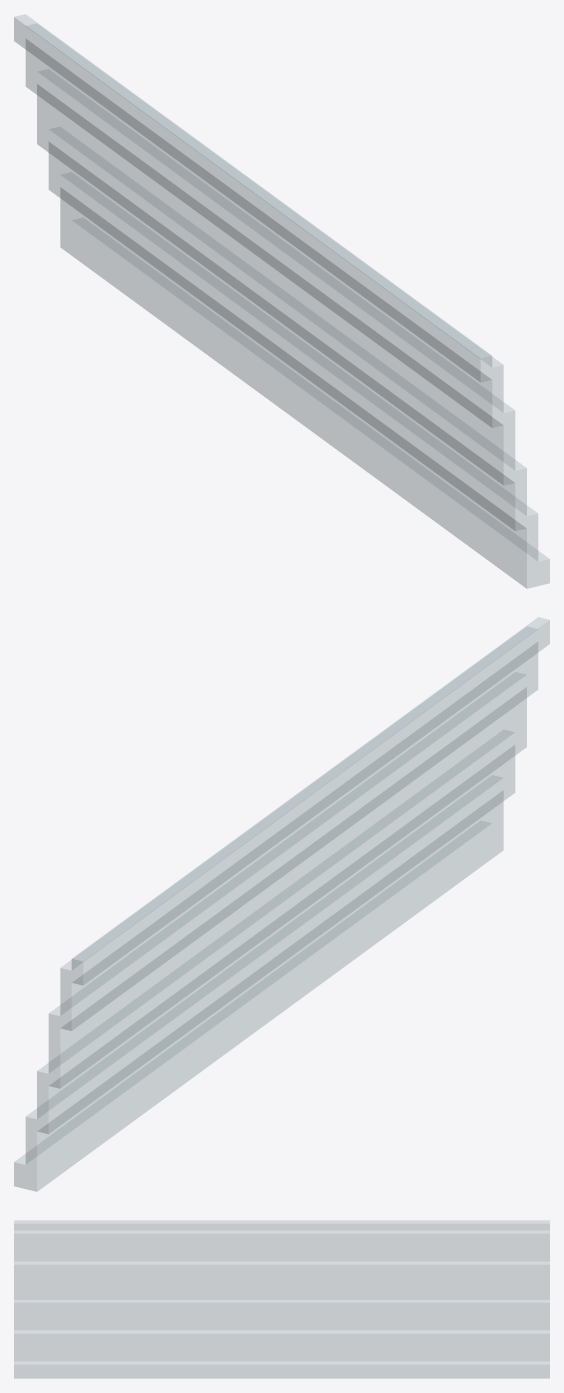
The model's file is swat_truck_windscreen.glb.
The picture shows the model from 3 angles, top to bottom: view 1: azimuth 30°, elevation 25°; view 2: azimuth 150°, elevation 25°; view 3: azimuth 270°, elevation 25°; orthographic projection. The views are drawn at different scales.
Parts seen in each view (by area): view 1: body:compound; view 2: body:compound; view 3: body:compound.
Part boxes in pixels (x1,y1,x2,y2): body:compound: (14,14,549,588); body:compound: (14,617,549,1191); body:compound: (14,1220,549,1378).
Size of the model in its own units: 0.1875 by 0.625 by 2.19.
